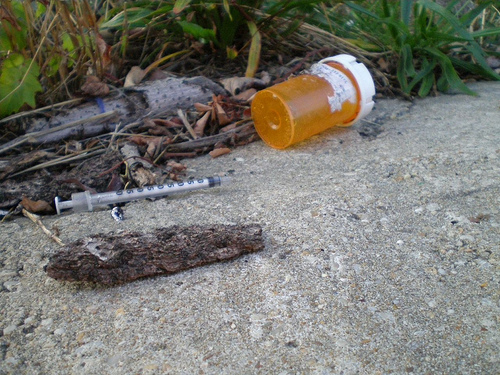pill bottle: (248, 51, 379, 148)
